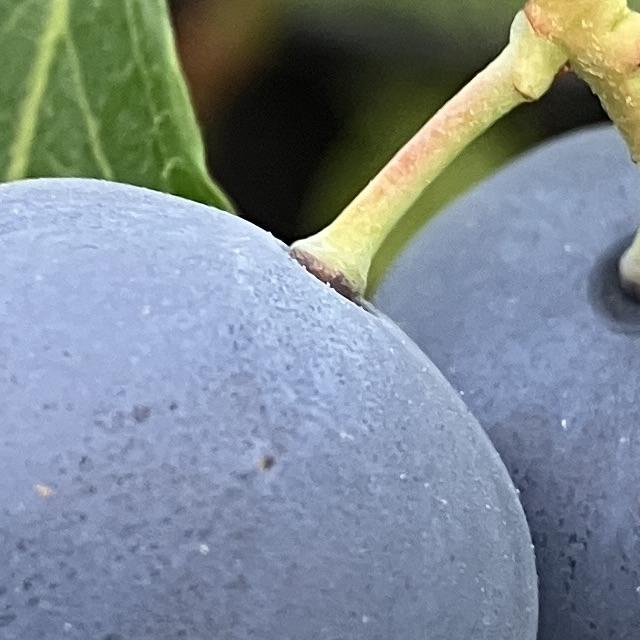Blueberries: (0, 170, 542, 640)
